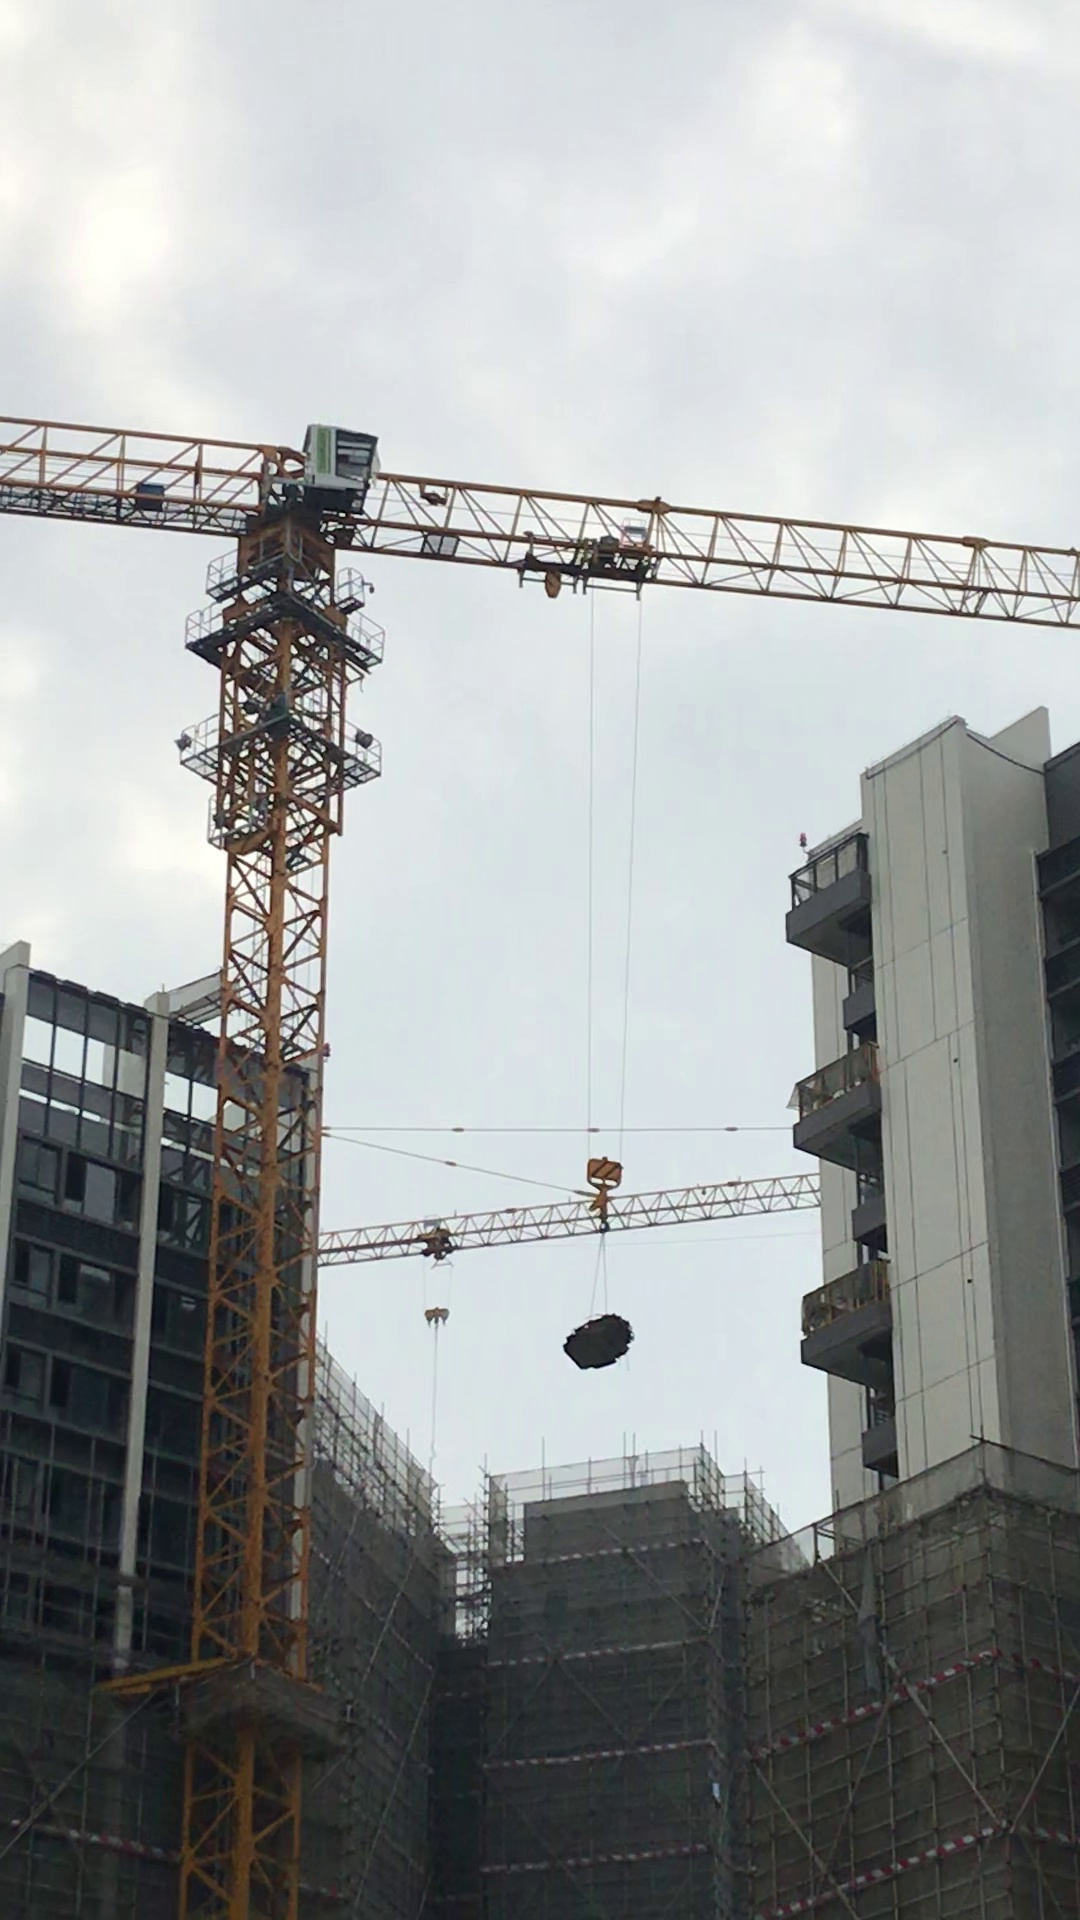hook: (578, 1150, 632, 1197), (419, 1300, 452, 1331)
